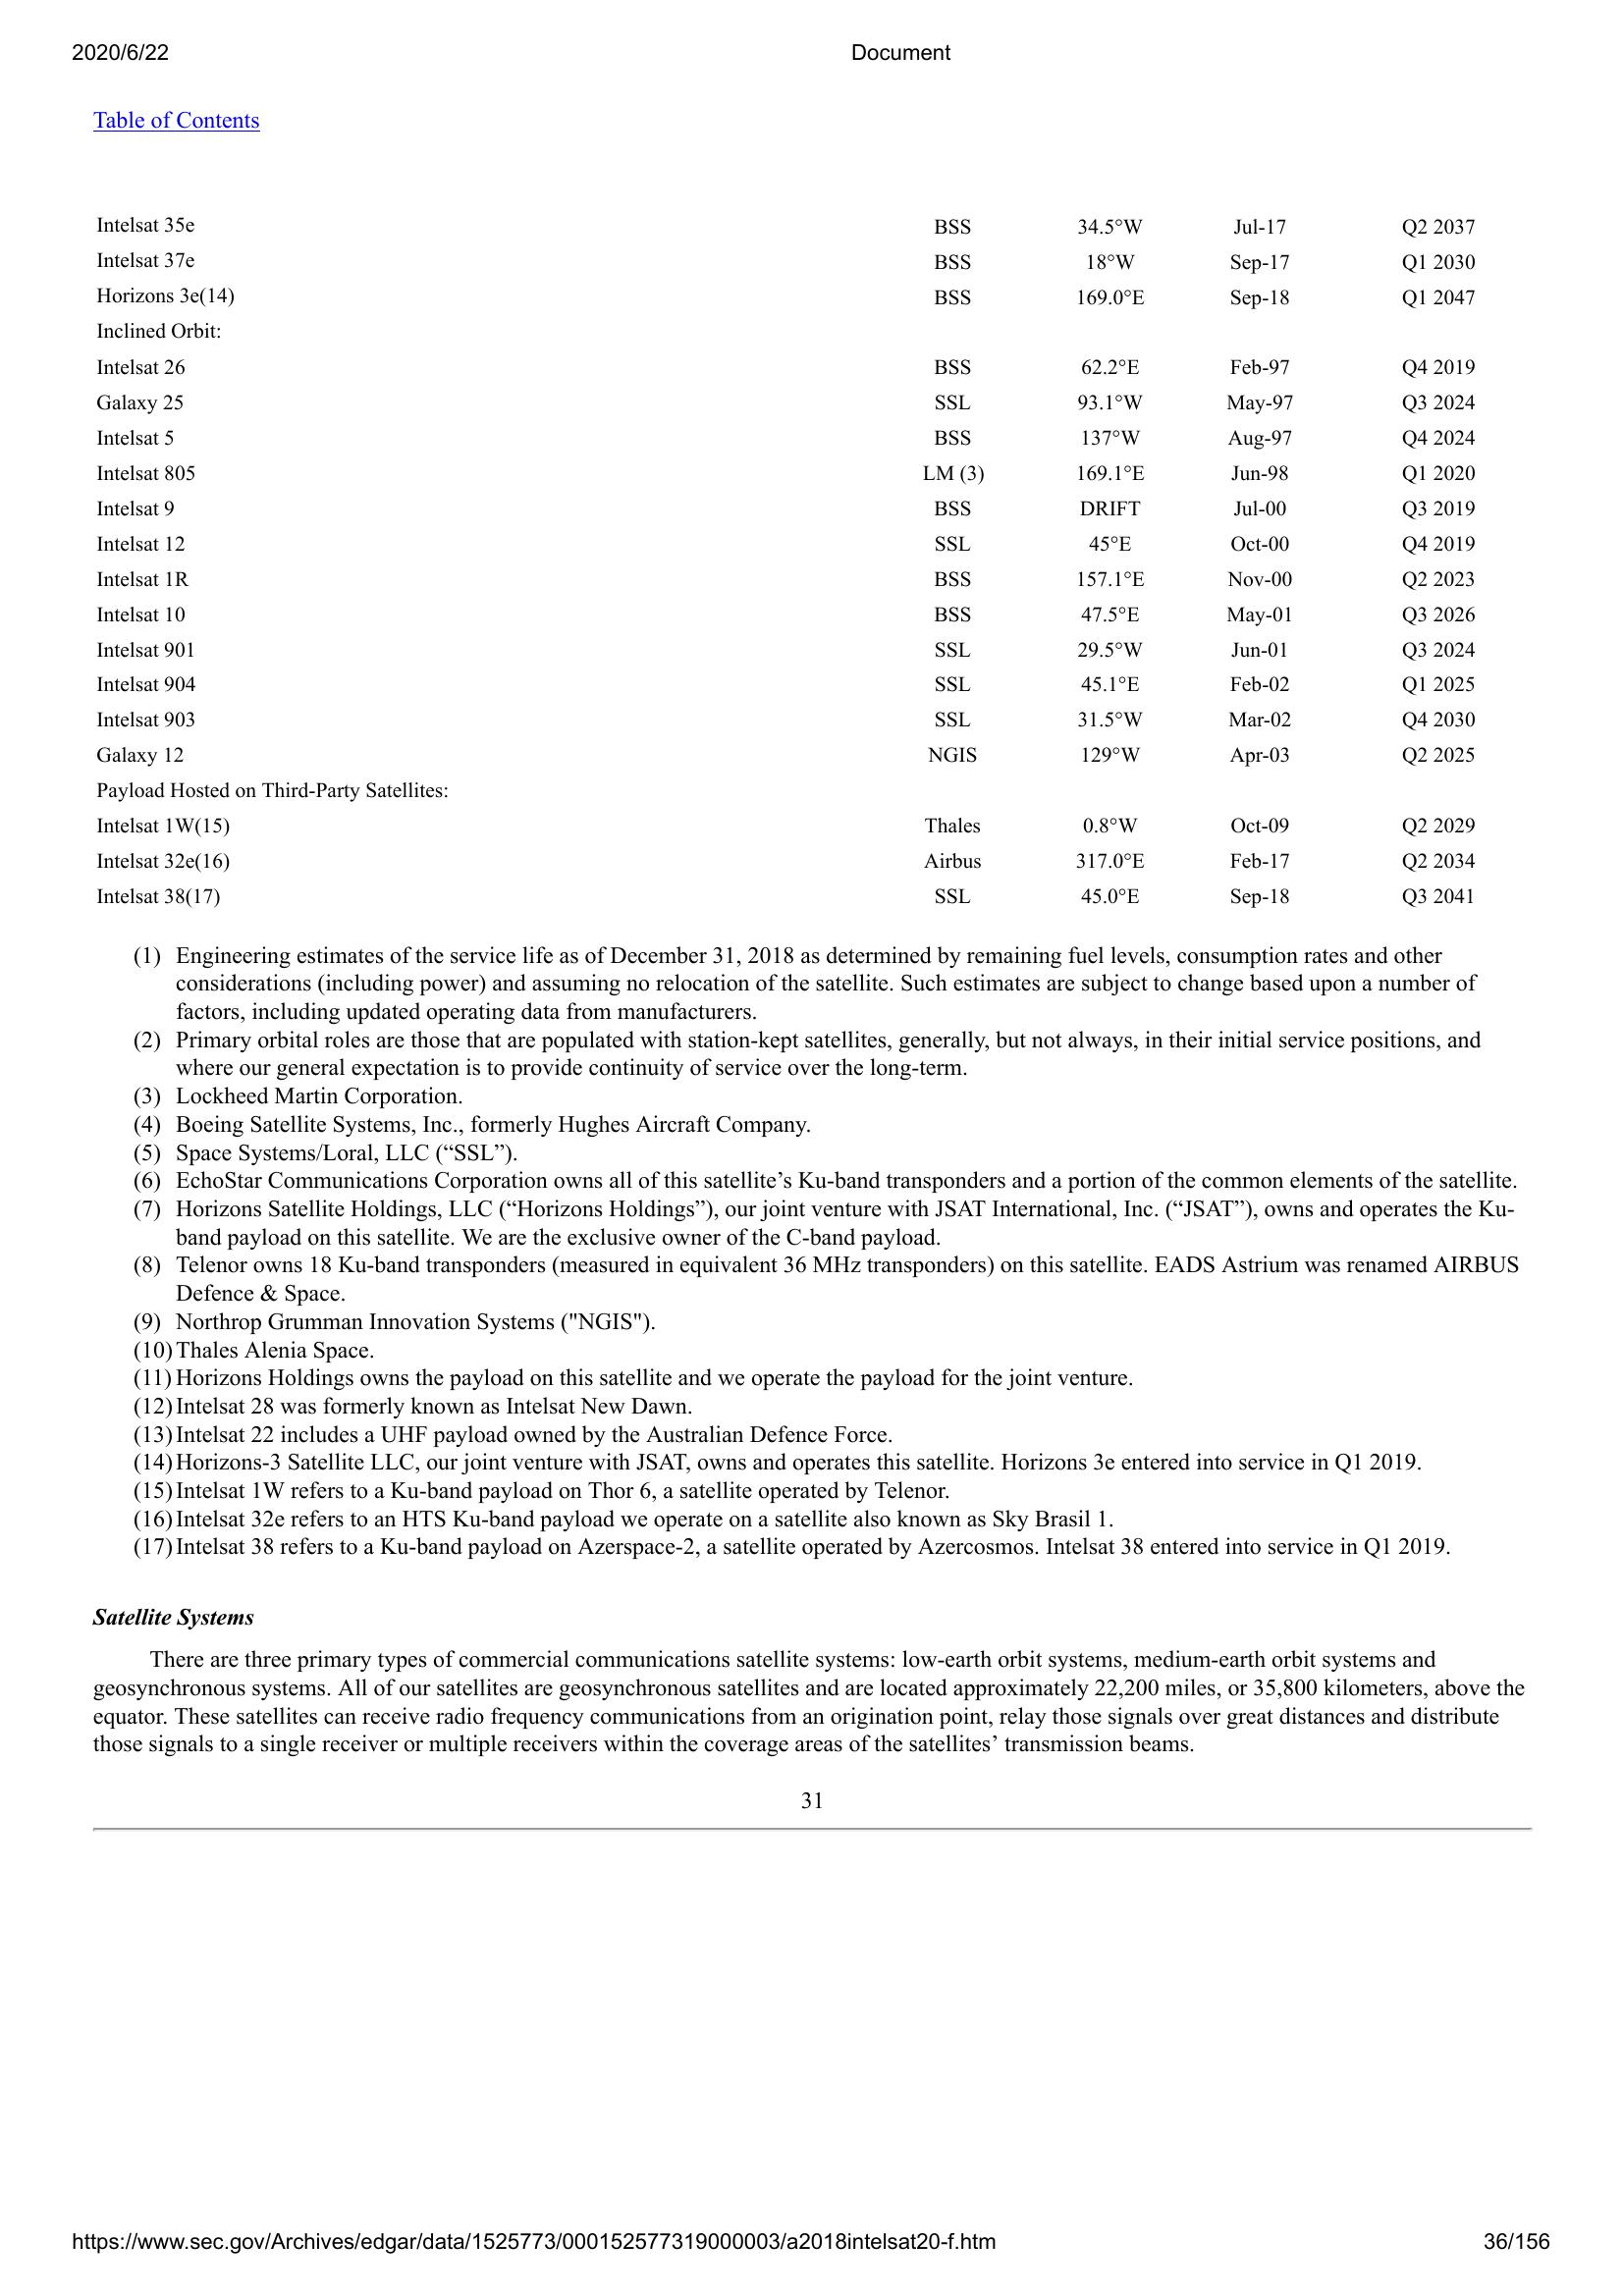table: (88, 193, 1486, 923)
